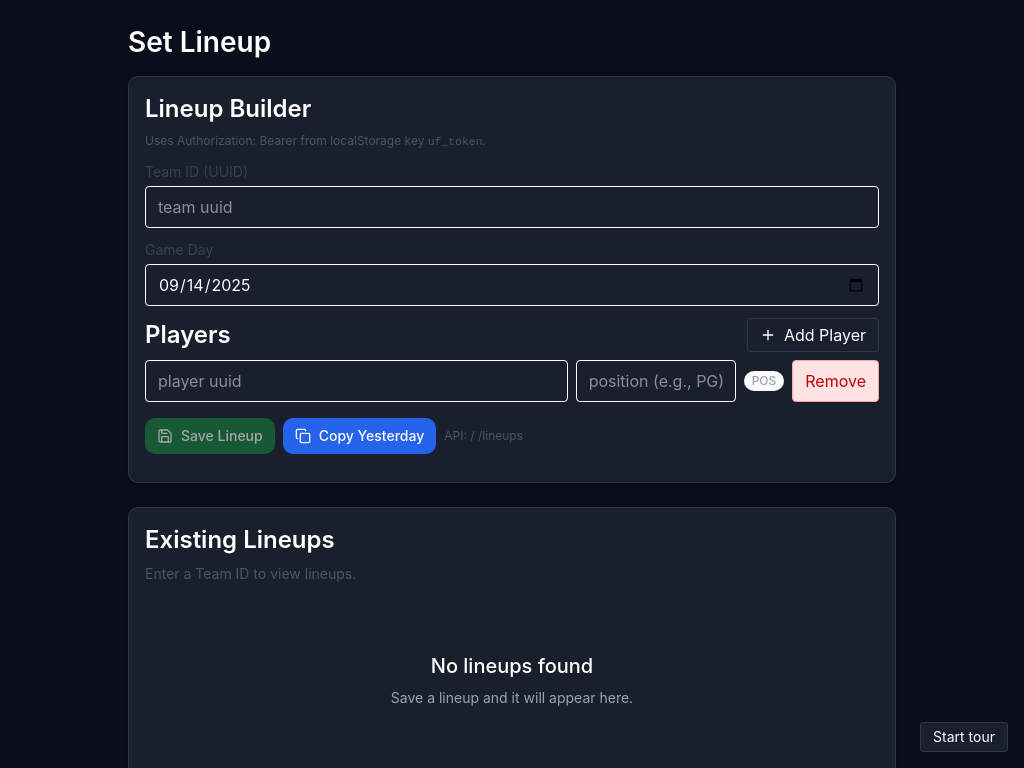
it: LineupPage basic behavior › renders and disables Save until Team ID is set
Expected: the heading "Set Lineup" is shown, [128, 24, 271, 60]
Expected: the button "Save Lineup" is disabled, [145, 418, 275, 454]
Type "T1" into the field with placeholder "team uuid" at [512, 207], box [145, 186, 879, 228]
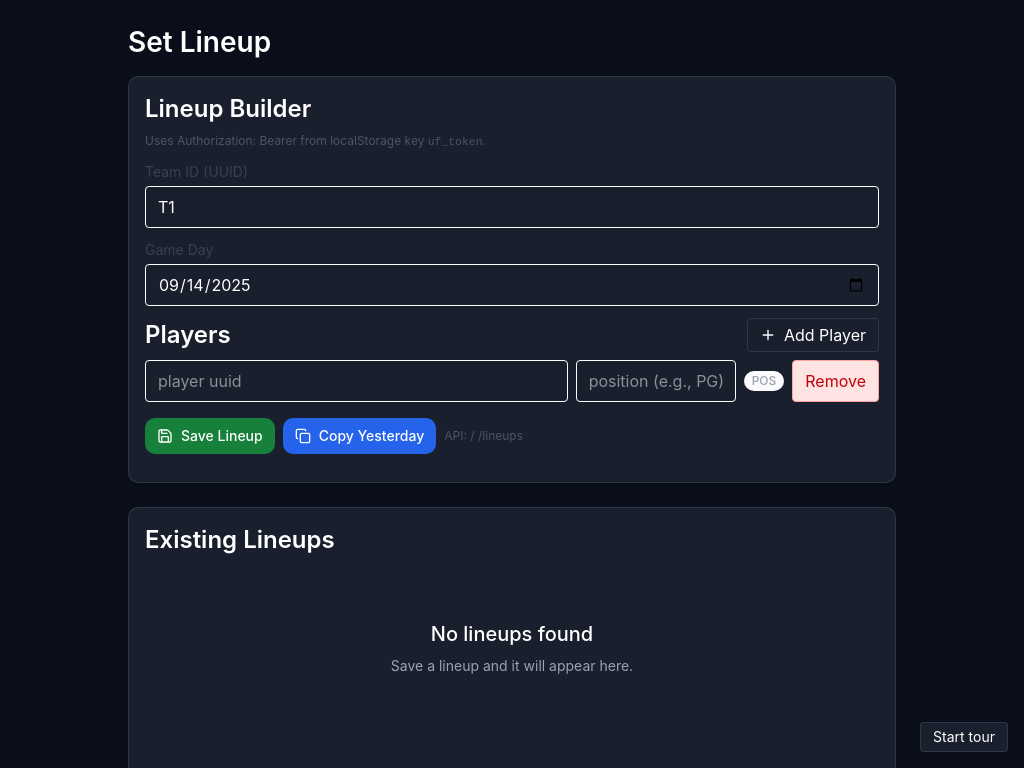
Now the button "Save Lineup" is enabled, box [145, 418, 275, 454]
